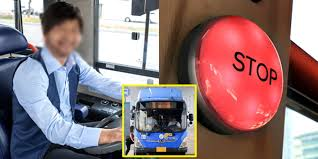bell: (180, 14, 284, 139)
